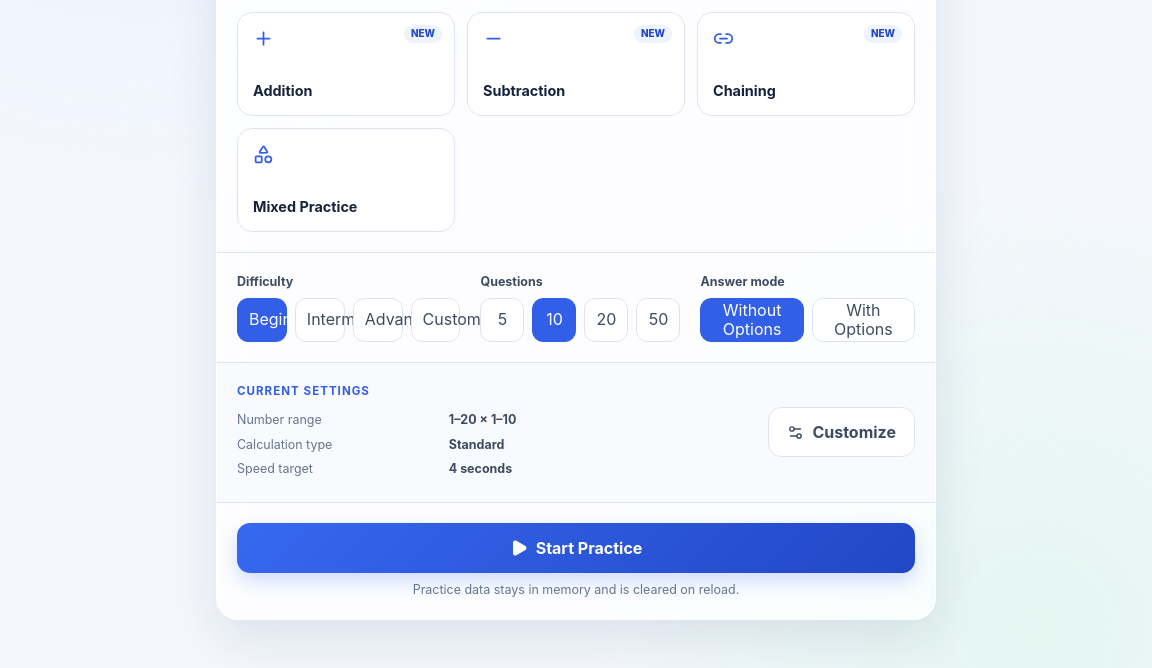
Test: customization dialog › starts once with the latest draft and can reset it
Later steps or results of the test are not shown.
(page scrolled)
Click the button "Customize".
click(842, 432)  # box [768, 408, 915, 458]
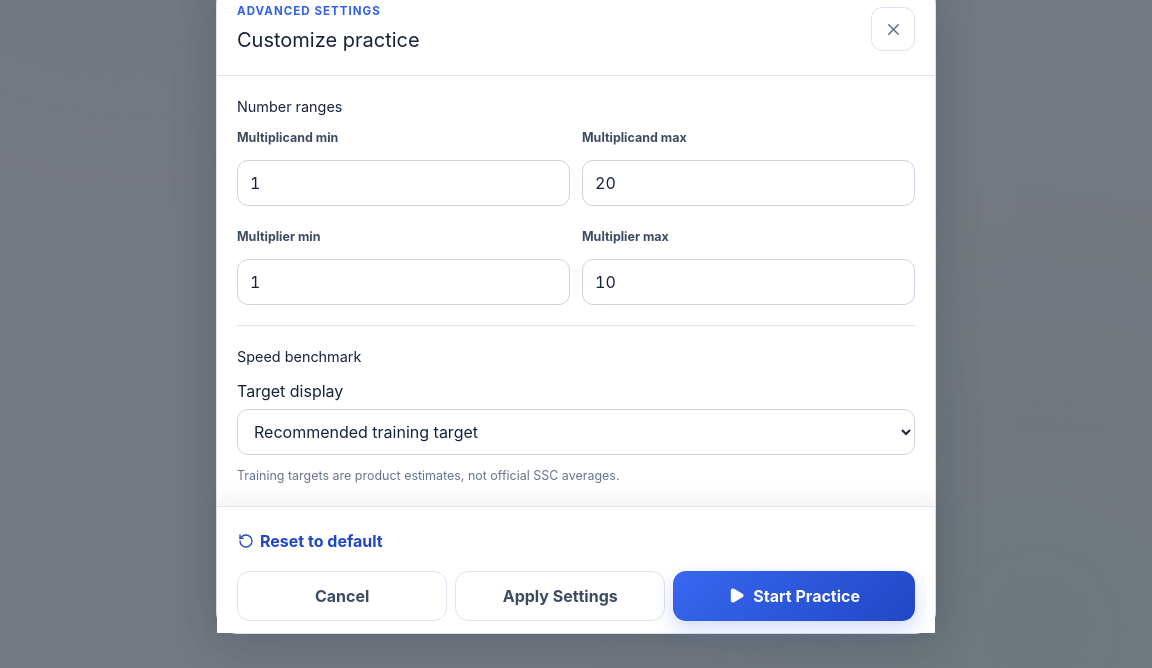
Replace the text in the field labelled "Multiplicand min" with "8" at (404, 183), box [237, 160, 570, 206]
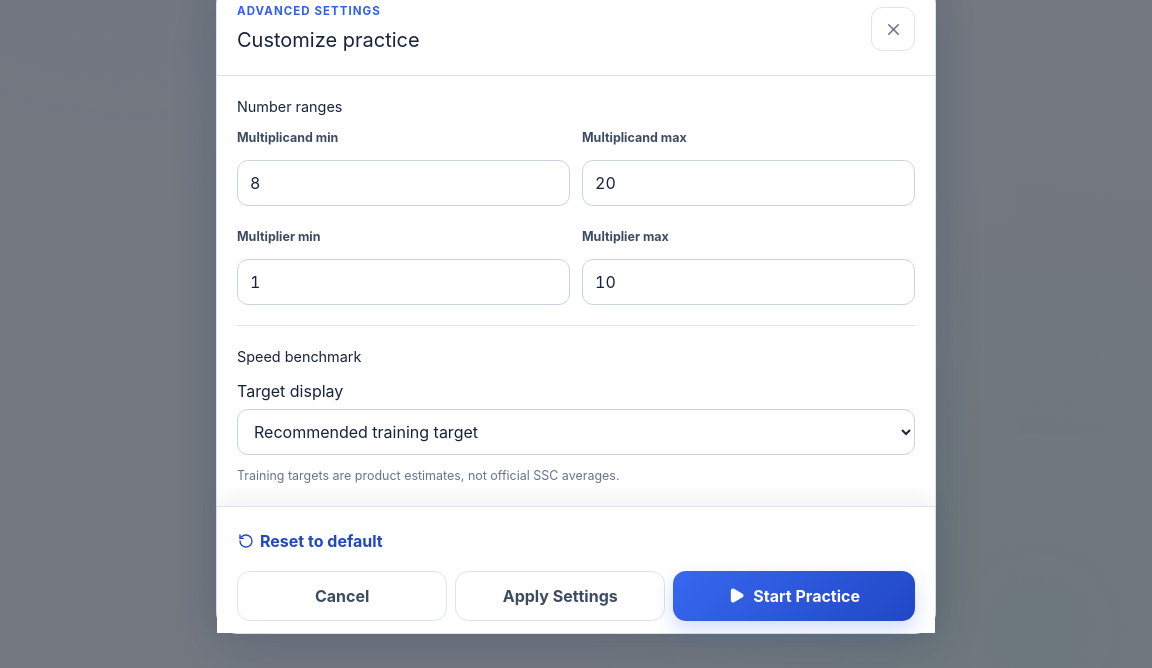
Click the button "Reset to default".
click(310, 540)  # box [237, 518, 384, 562]
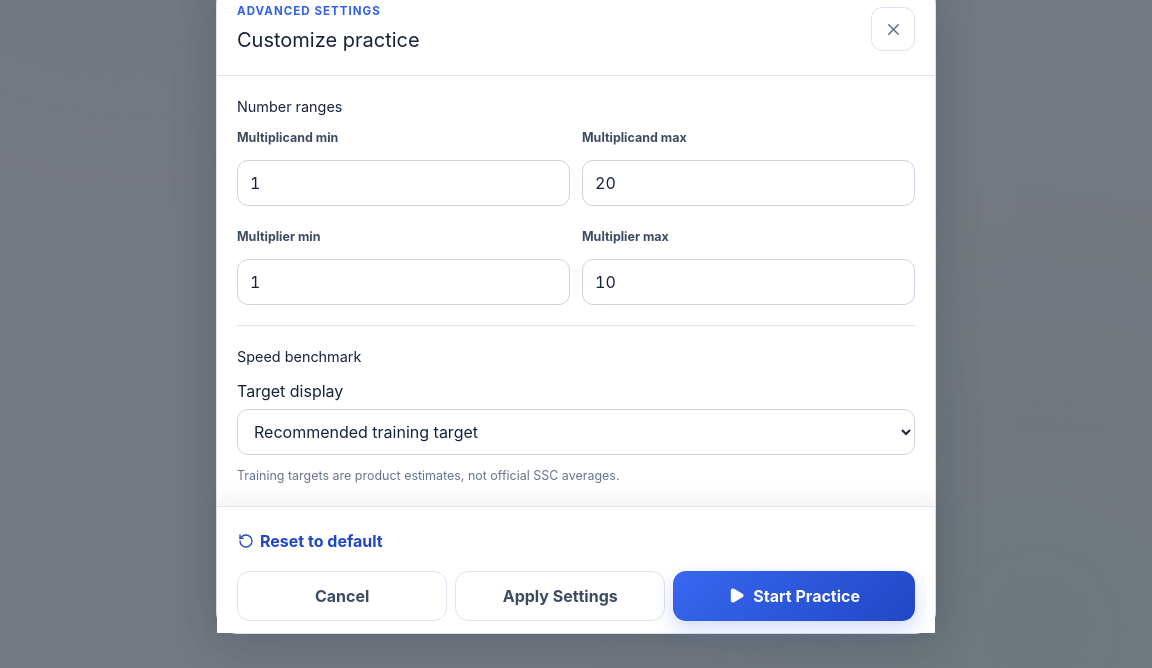
Check: the field labelled "Multiplicand min" holds "1", box [237, 160, 570, 206]
